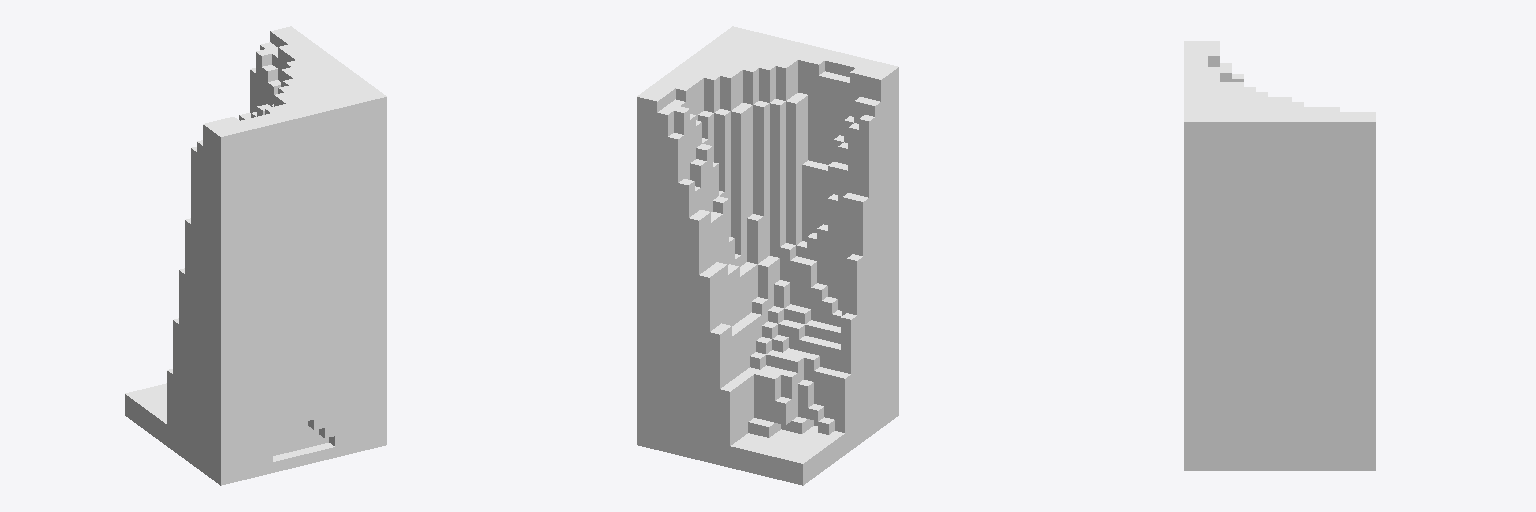
File: Mountain_river_5.obj
3 renders of one model, left to right at view 1: azimuth 30°, elevation 25°; view 2: azimuth 150°, elevation 25°; view 3: azimuth 270°, elevation 25°, orthographic.
Visible parts, largest first — view 1: object 1; view 2: object 1; view 3: object 1.
Boxes of the visible parts, <box> form: object 1: <box>125,26,386,485</box>; object 1: <box>637,26,898,485</box>; object 1: <box>1184,41,1375,470</box>.
Size of the model in its own units: 1.6 by 3.2 by 1.6.